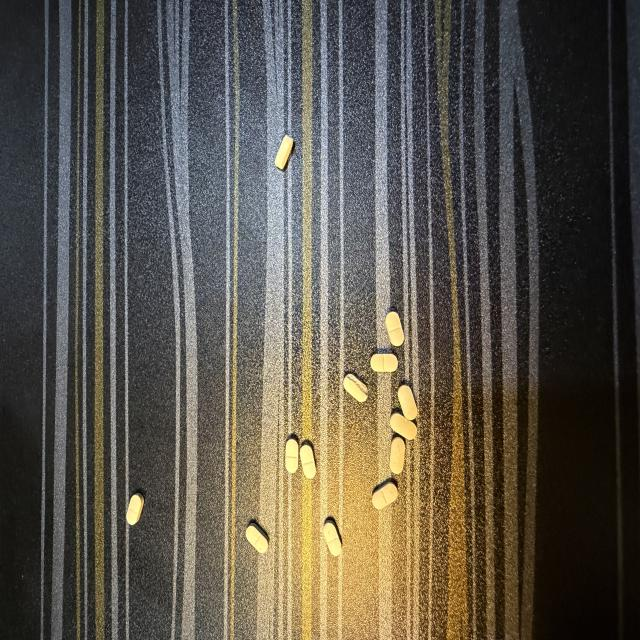pill: (372, 479, 397, 509), (323, 518, 342, 556), (246, 521, 268, 553), (385, 311, 404, 347), (390, 413, 416, 439), (398, 385, 417, 420), (344, 374, 367, 402), (275, 135, 293, 169), (300, 441, 316, 479), (390, 436, 405, 474), (127, 493, 144, 525), (285, 437, 299, 474), (371, 354, 397, 372)
